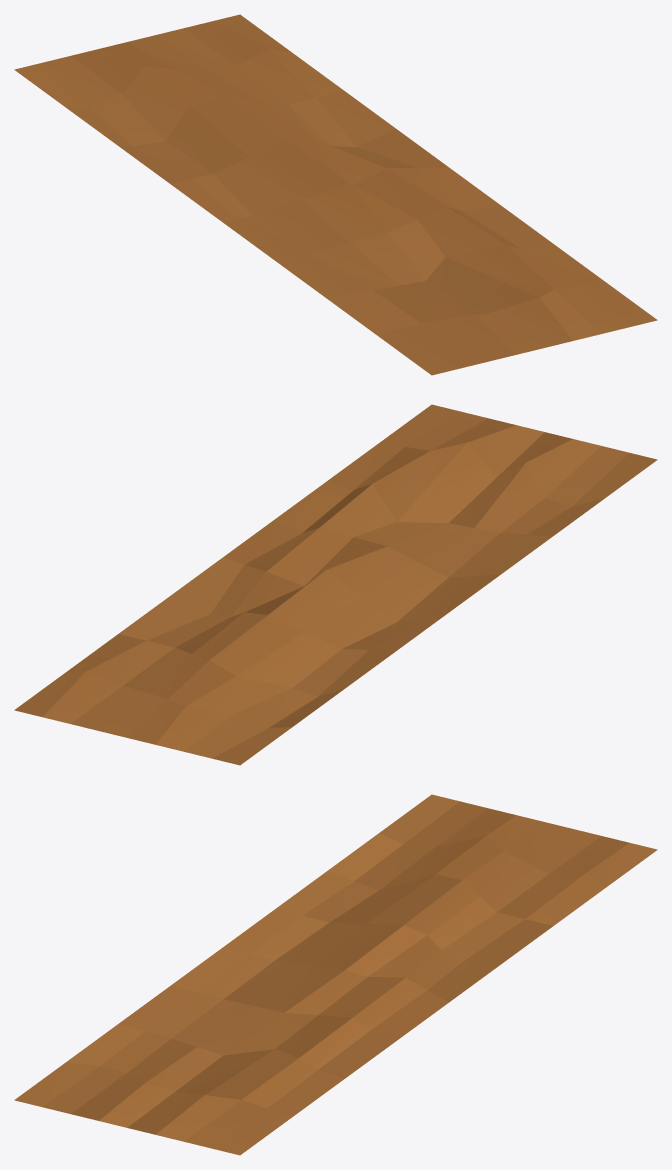
Rendered from cGround_C_Under_1__.glb.
3 views of the same model, one above another, from view 1: azimuth 30°, elevation 25°; view 2: azimuth 150°, elevation 25°; view 3: azimuth 330°, elevation 25° (orthographic).
Parts seen in each view (by area): view 1: cGround_C_Under_1; view 2: cGround_C_Under_1; view 3: cGround_C_Under_1.
Boxes of the visible parts, x1=… form: cGround_C_Under_1: x1=14, y1=14, x2=657, y2=375; cGround_C_Under_1: x1=14, y1=404, x2=657, y2=765; cGround_C_Under_1: x1=14, y1=794, x2=657, y2=1155.
Size of the model in its own units: 10 by 0.9464 by 32.
Materials: 1 (1 with a texture image).
